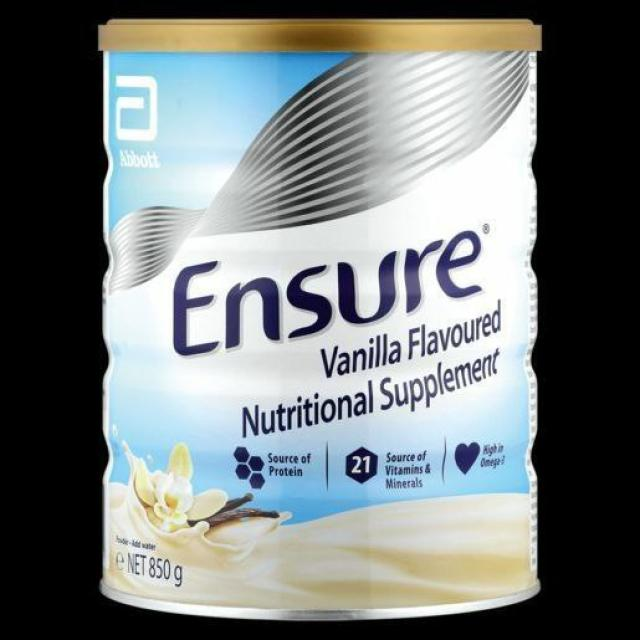food-supliment: (101, 52, 542, 607)
